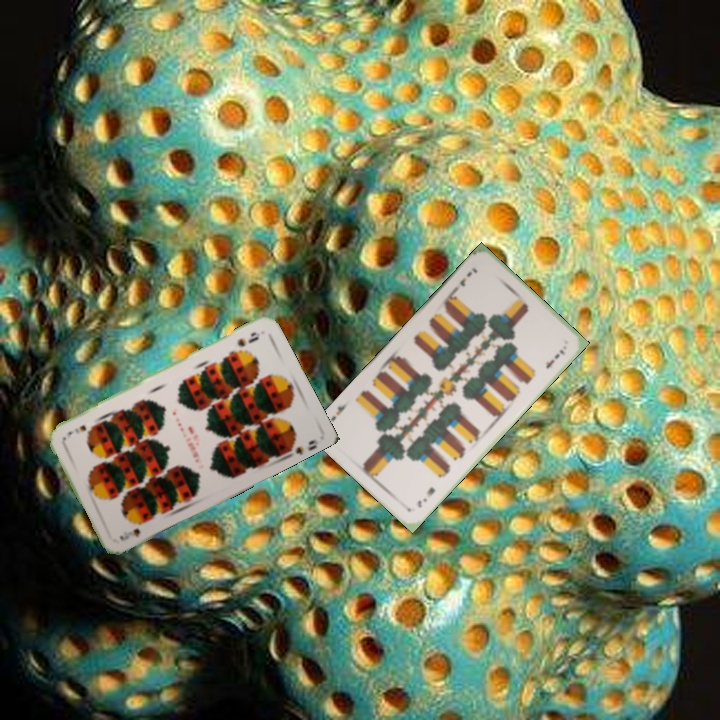E7: (413, 483, 438, 510), (456, 263, 480, 289)
S9: (233, 328, 262, 349), (115, 524, 142, 544)
